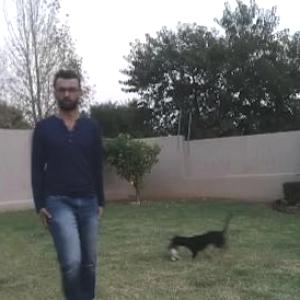follow: (32, 67, 108, 299)
